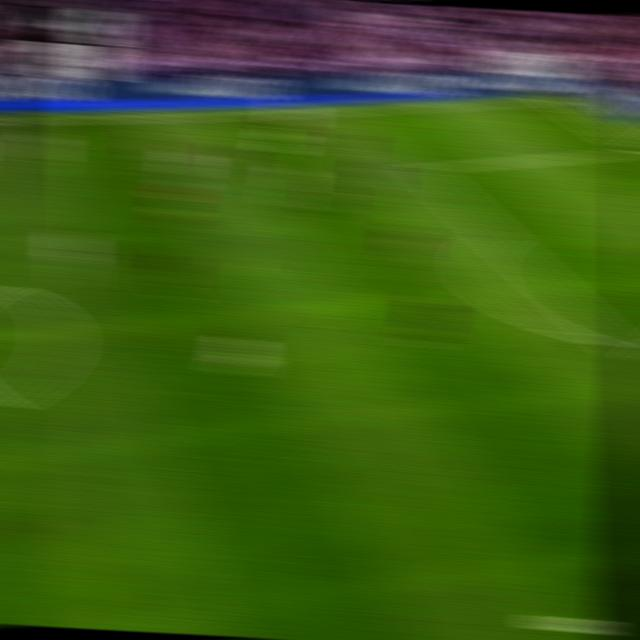bigarea_top_inner: (407, 158, 439, 179)
bottom_arc_area_intersection: (598, 330, 632, 355)
corner: (536, 92, 569, 106)
smallarea_bottom_outter: (622, 140, 640, 159)
top_arc_area_intersection: (480, 226, 513, 246)
